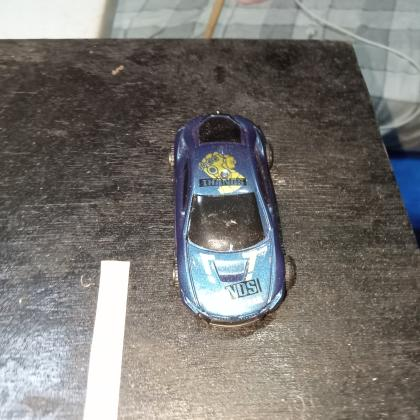Car: (166, 109, 298, 328)
